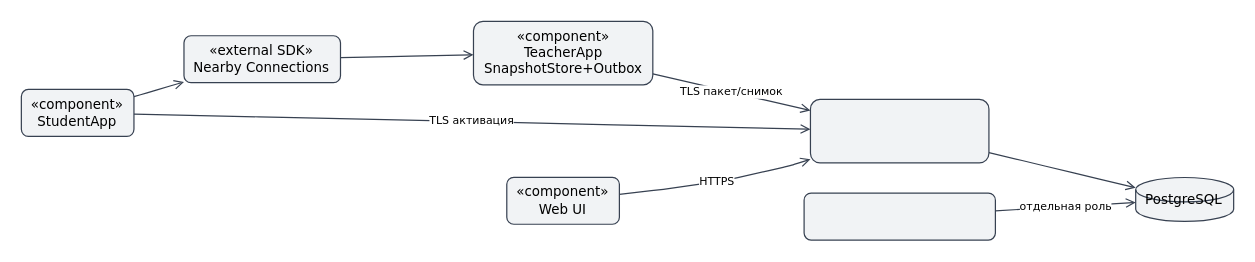
Some shapes in this 1255 by 262 pixel diagram are drawn without their labels. Each missing label, with the box of its shape:
«component» Backup/Retention Worker: (803, 192, 995, 240)
«component» REST API Auth+Attendance+Risk: (809, 98, 989, 163)
